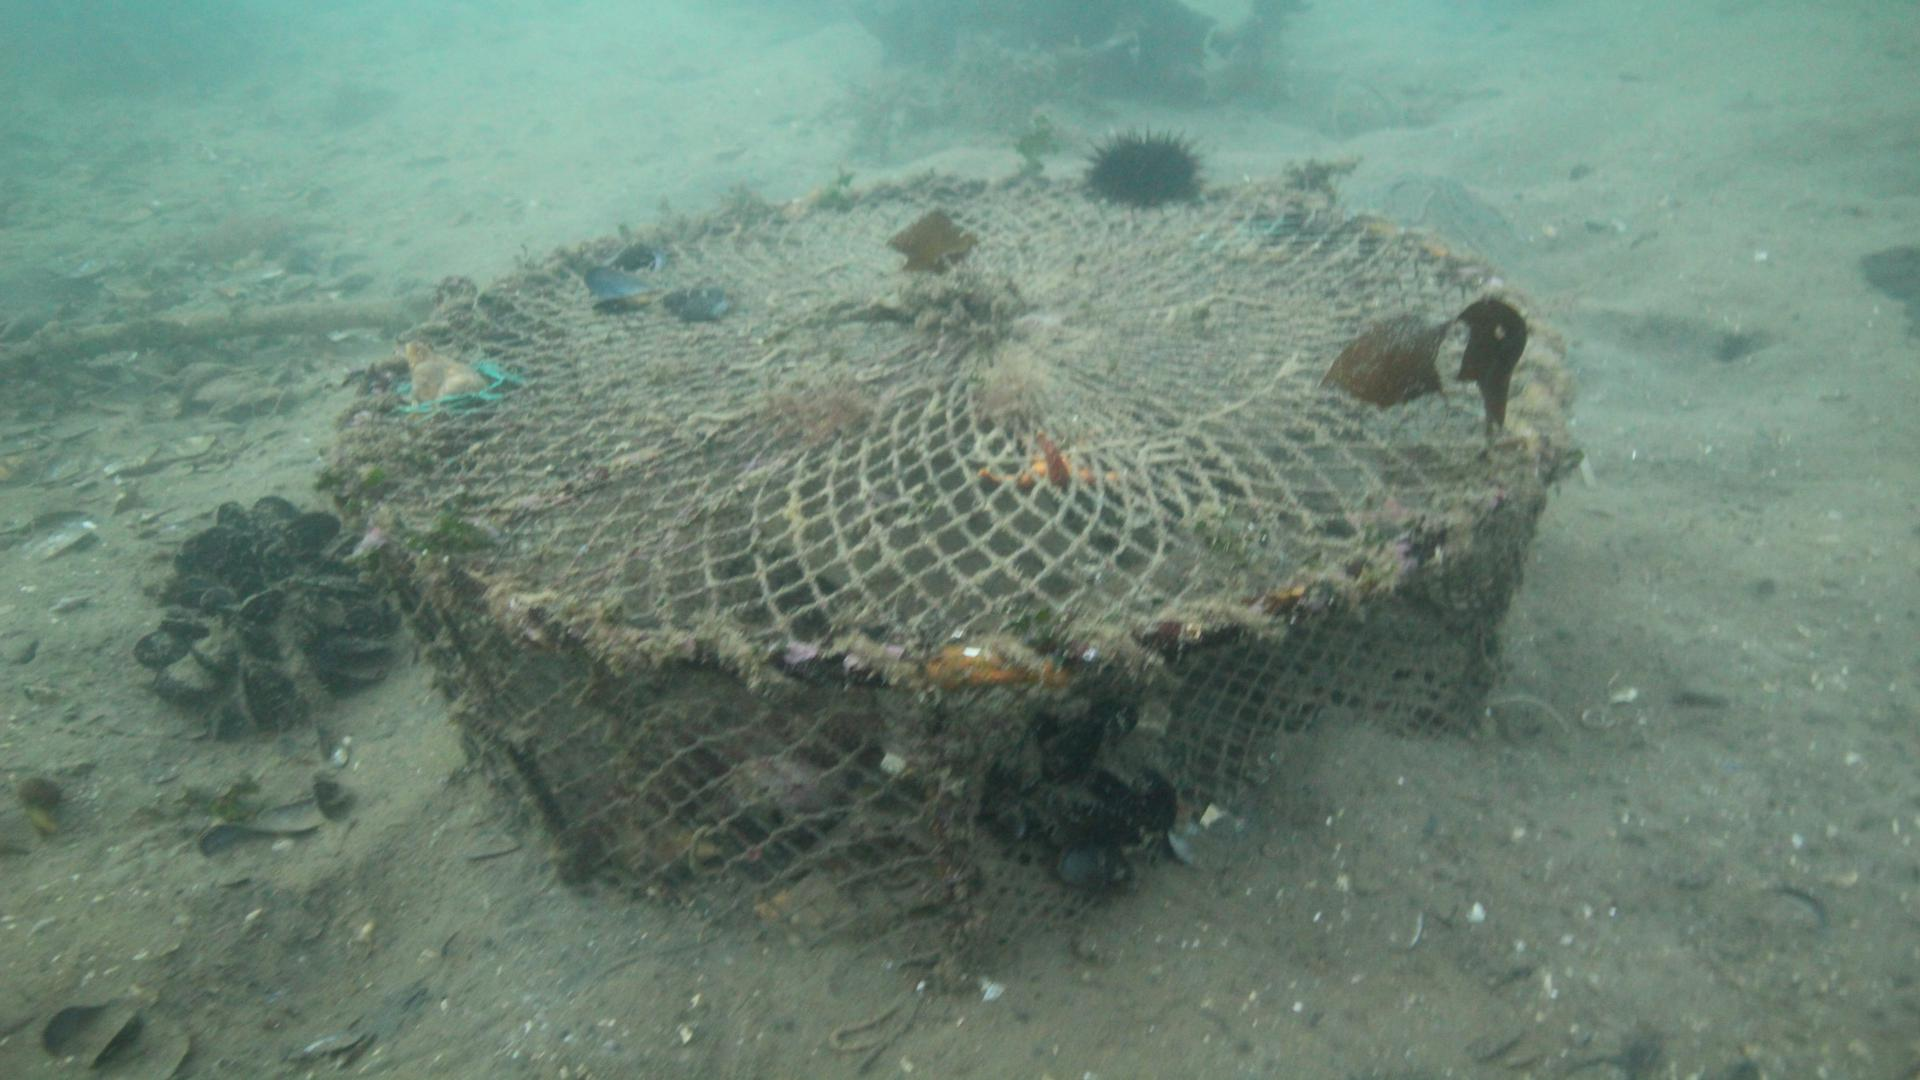circular fish trap: (339, 171, 1571, 982)
